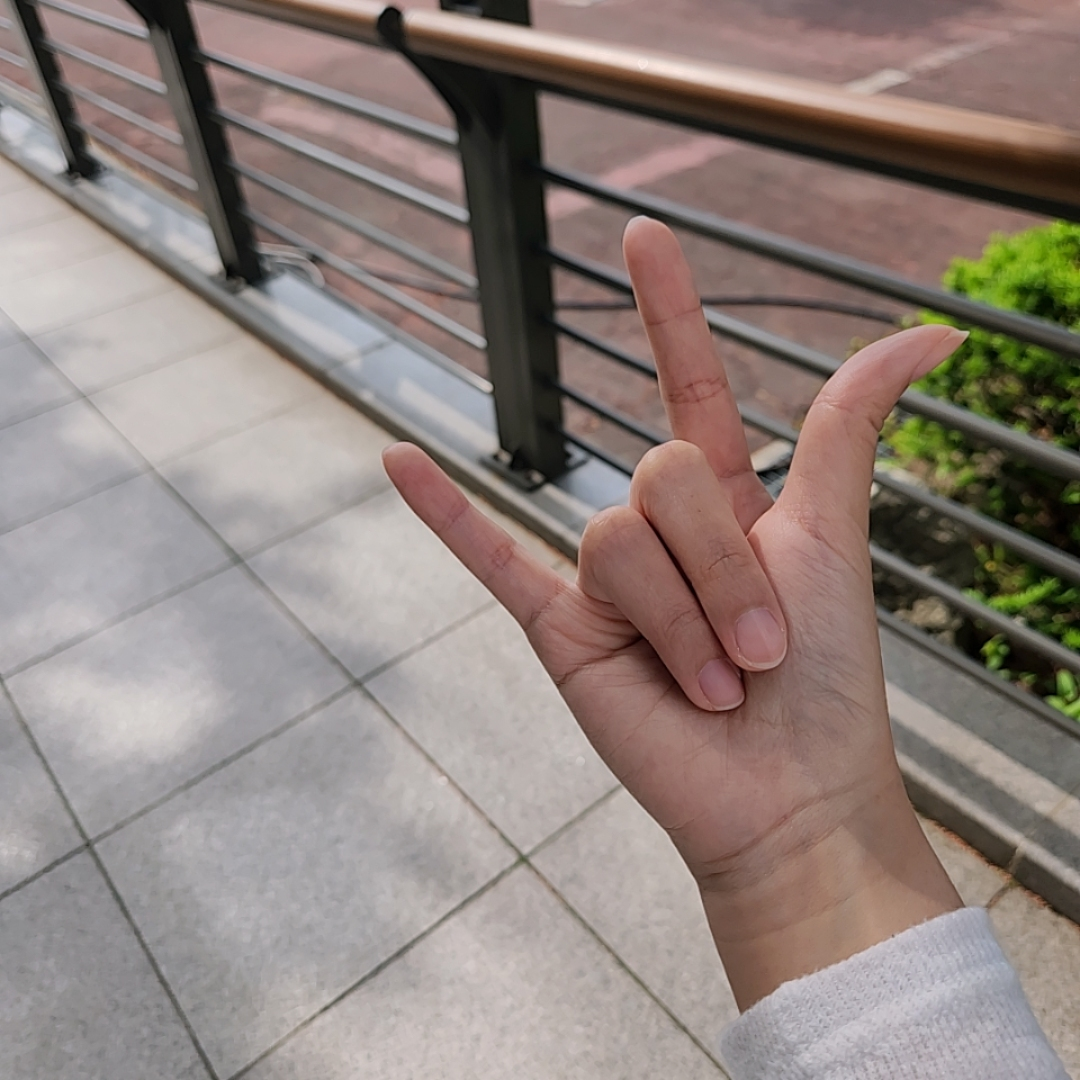iloveyou: (380, 215, 970, 826)
